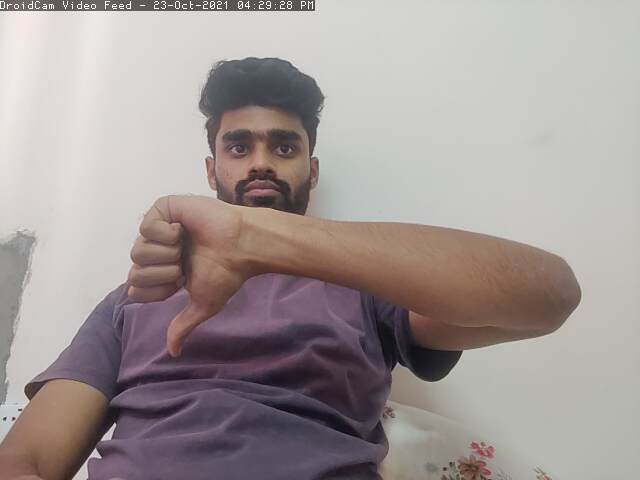ThumbsDown: (126, 191, 233, 358)
